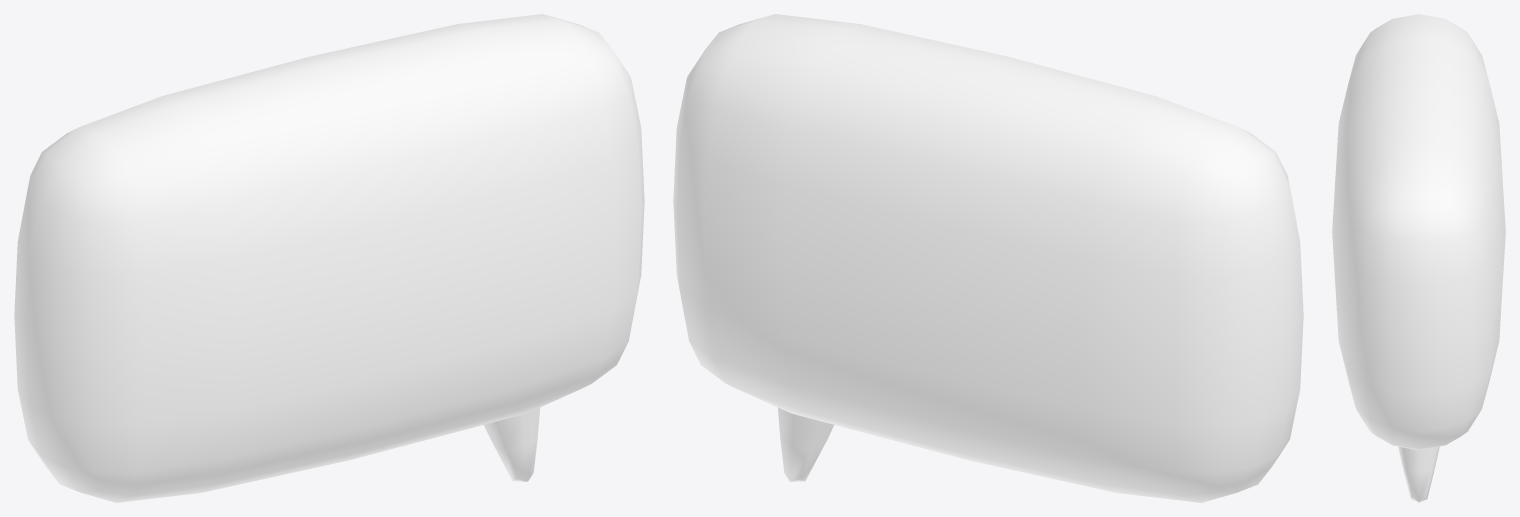
Rendered from TextBubble.glb.
3 views of the same model, side by side, from view 1: azimuth 30°, elevation 25°; view 2: azimuth 150°, elevation 25°; view 3: azimuth 270°, elevation 25° (orthographic). The views are drawn at different scales.
Visible parts, largest first — view 1: TextBubble; view 2: TextBubble; view 3: TextBubble.
Boxes of the visible parts, x1,y1,x2,y2 form: TextBubble: [14, 14, 644, 502]; TextBubble: [673, 14, 1303, 502]; TextBubble: [1332, 14, 1505, 502].
Size of the model in its own units: 0.1639 by 0.1205 by 0.055.
Materials: 1 (1 with a texture image).
